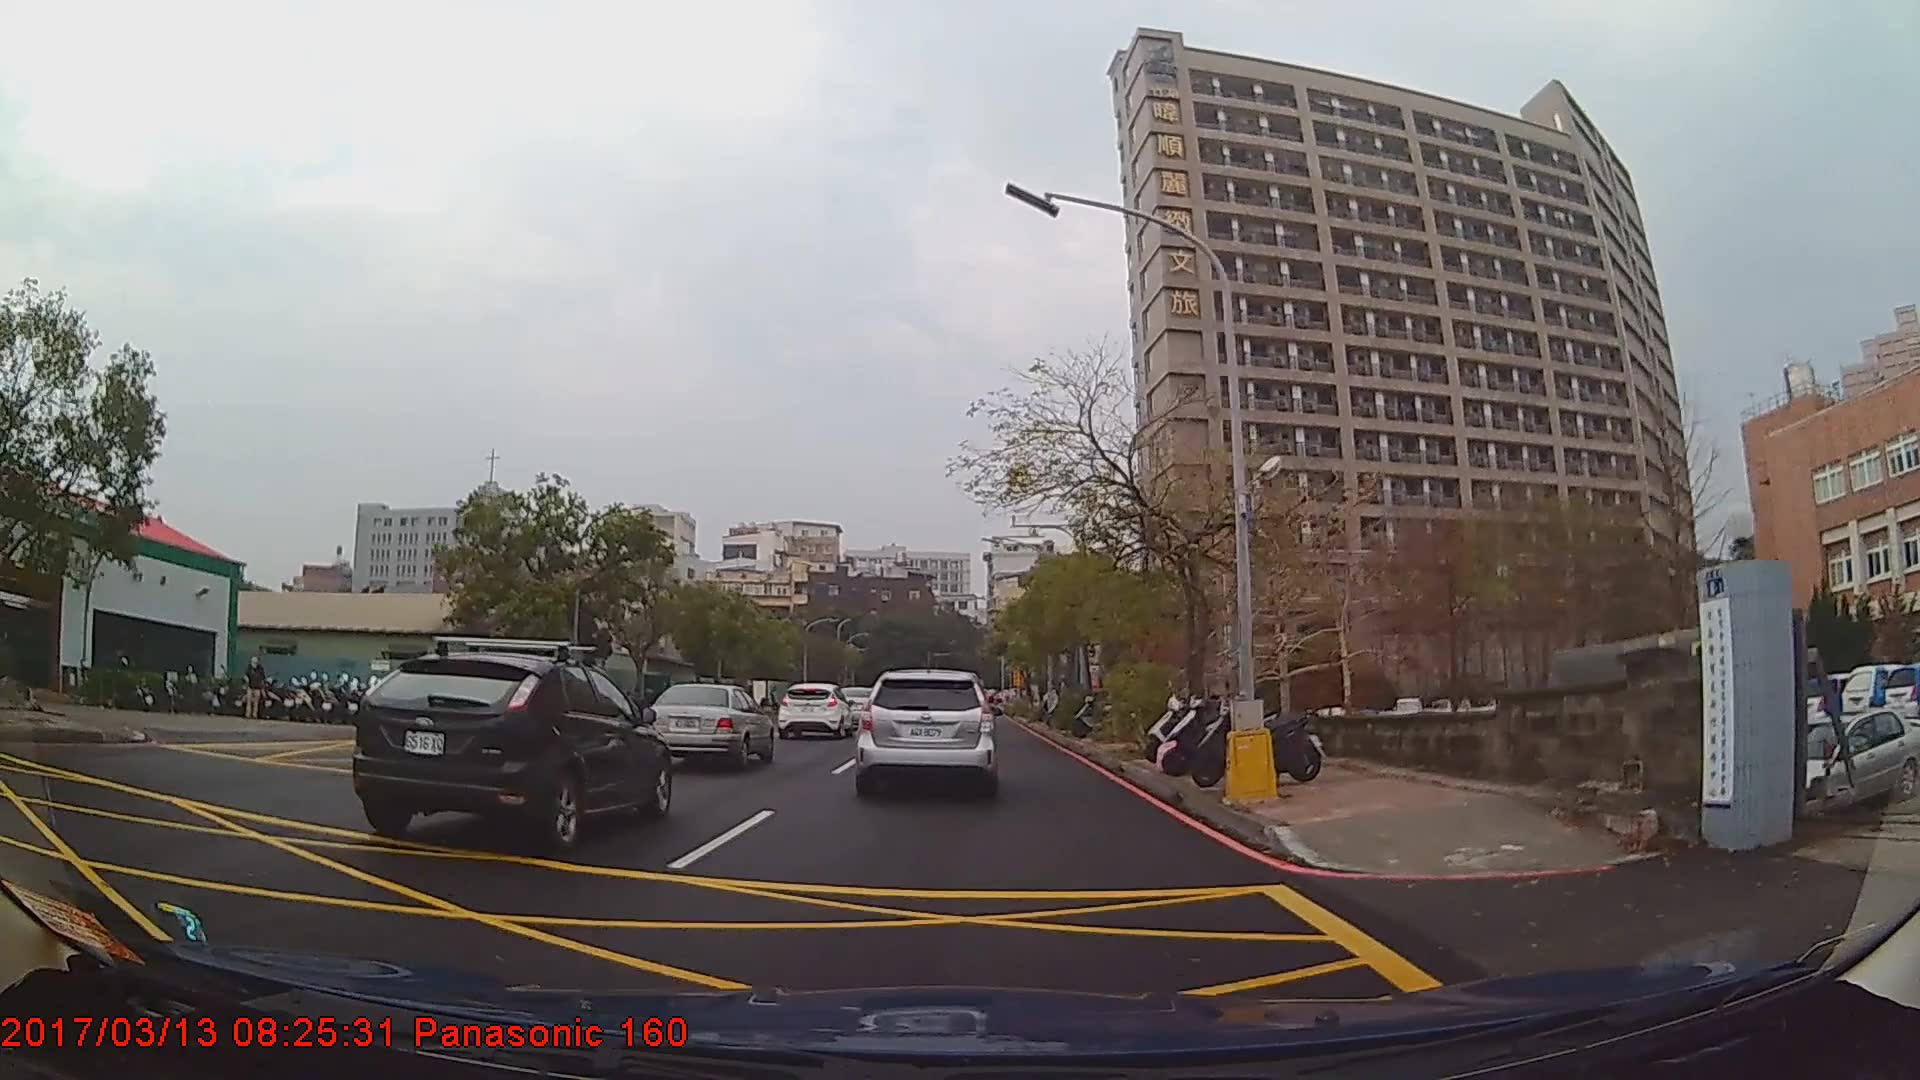pedestrian: (245, 658, 267, 720)
vehicle: (351, 652, 671, 845), (857, 665, 995, 797), (1768, 703, 1918, 811), (644, 681, 774, 769), (778, 682, 855, 741)
